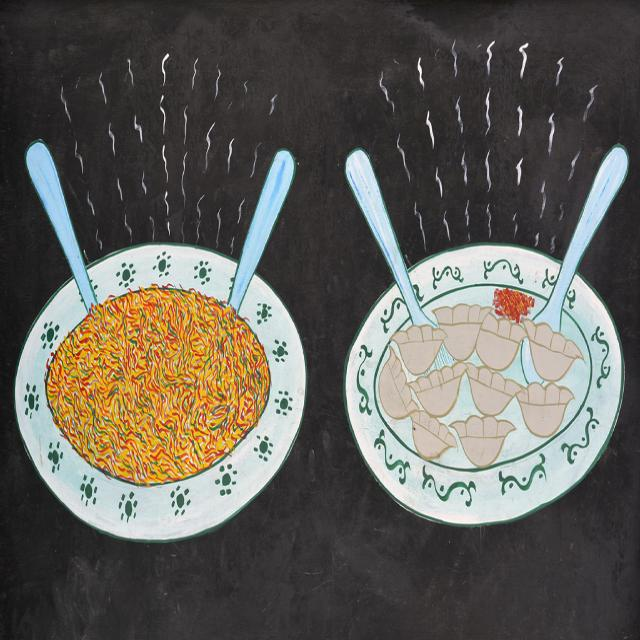non-organic waste: (16, 244, 303, 542), (345, 238, 624, 530)
